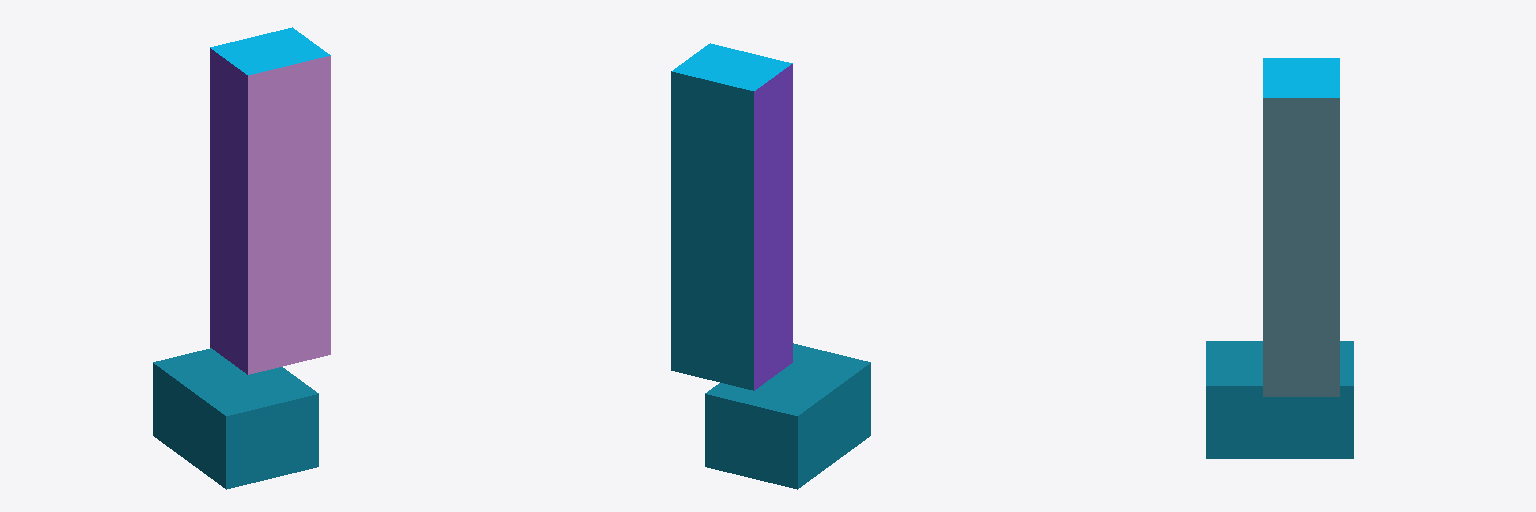
File: gripper3_2.obj
3 renders of one model, left to right at view 1: azimuth 30°, elevation 25°; view 2: azimuth 150°, elevation 25°; view 3: azimuth 270°, elevation 25°, orthographic.
Parts seen in each view (by area): view 1: Box002; view 2: Box002; view 3: Box002.
Part boxes in pixels (bbox=[...]): Box002: bbox=[153, 27, 330, 489]; Box002: bbox=[671, 43, 870, 489]; Box002: bbox=[1206, 58, 1353, 458].
Size of the model in its own units: 0.1092 by 0.2987 by 0.1049.